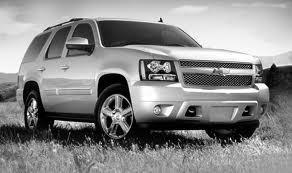car: (14, 17, 273, 152)
